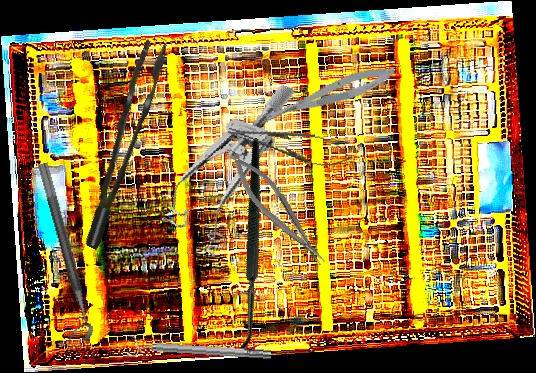Fixation Ring: (22, 162, 96, 345), (126, 334, 272, 367)
Hook Surgical: (156, 137, 361, 367)
Micro Scissor: (254, 60, 399, 130)
Needle Holder: (222, 145, 332, 275), (225, 115, 355, 173)
Speculum: (154, 61, 297, 264)
Tissue Forceps: (57, 36, 188, 251)
